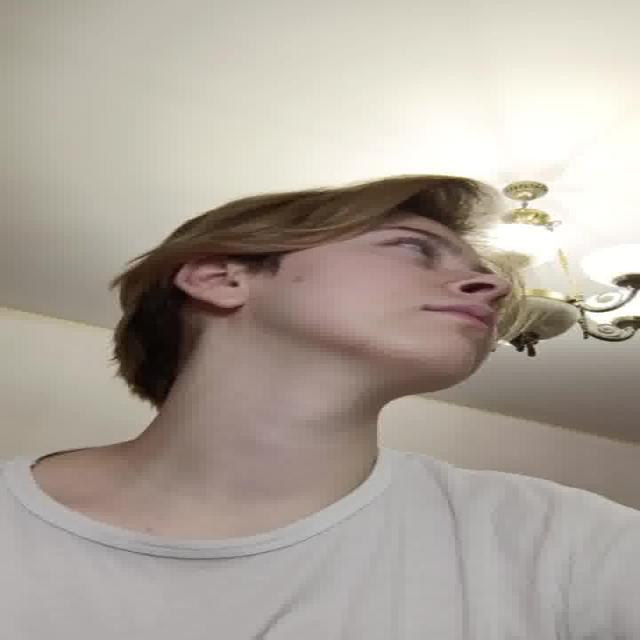earlobe: (207, 287, 247, 310)
eye: (380, 237, 439, 254)
nose: (449, 286, 507, 306)
wholeear: (174, 250, 248, 310)
